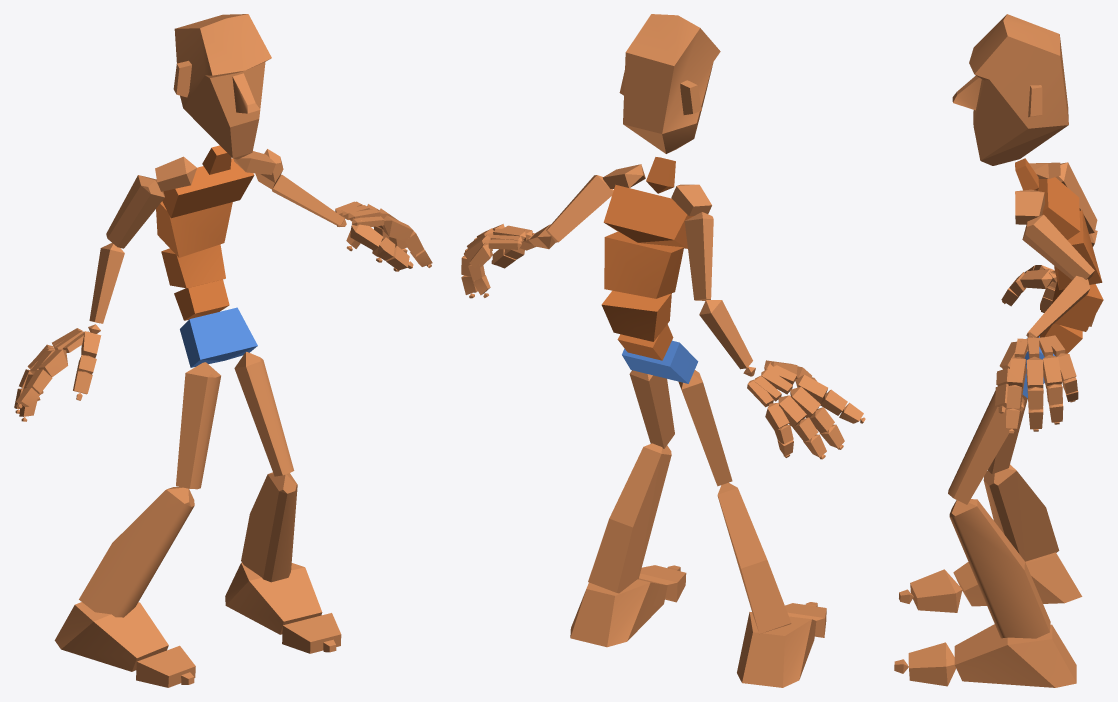
File: prueba174.obj
3 renders of one model, left to right at view 1: azimuth 30°, elevation 25°; view 2: azimuth 150°, elevation 25°; view 3: azimuth 270°, elevation 25°, orthographic. The views are drawn at different scales.
Visible parts, largest first — view 1: BOPED_Head, BOPED_R_leg, BOPED_R_foot, BOPED_L_leg, BOPED_R_foot01, BOPED_R_legup, BOPED_L_legup, Bone01, Bone04, Bone05, BOPED_R_arm_upper, Bone03 (+7 smaller); view 2: BOPED_Head, BOPED_L_leg, BOPED_R_foot01, BOPED_R_leg, BOPED_R_foot, Bone04, Bone05, Bone03, BOPED_R_legup, BOPED_L_legup, BOPED_R_arm_upper, BOPED_L_arm_upper (+8 smaller); view 3: BOPED_Head, BOPED_L_leg, BOPED_R_foot01, BOPED_R_leg, BOPED_L_legup, BOPED_R_foot, BOPED_L_arm_upper, Bone05, BOPED_R_foot_toe01, BOPED_R_foot_toe04, BOPED_L_arm_fore, Bone03 (+14 smaller).
Part boxes in pixels (x1,y1,x2,y2): BOPED_Head: (173, 14, 271, 159); BOPED_R_leg: (79, 487, 194, 617); BOPED_R_foot: (54, 602, 168, 671); BOPED_L_leg: (241, 472, 297, 582); BOPED_R_foot01: (225, 562, 322, 634); BOPED_R_legup: (176, 362, 220, 489); BOPED_L_legup: (234, 352, 294, 476); Bone01: (180, 307, 257, 367); Bone04: (156, 201, 232, 257); Bone05: (162, 158, 254, 218); BOPED_R_arm_upper: (106, 175, 164, 248); Bone03: (161, 244, 225, 288); BOPED_Head: (619, 14, 720, 153); BOPED_L_leg: (588, 443, 671, 593); BOPED_R_foot01: (570, 578, 667, 647); BOPED_R_leg: (717, 482, 791, 633); BOPED_R_foot: (737, 612, 816, 687); Bone04: (604, 231, 683, 298); Bone05: (603, 184, 693, 248); Bone03: (601, 290, 671, 341); BOPED_R_legup: (678, 370, 732, 486); BOPED_L_legup: (629, 370, 674, 448); BOPED_R_arm_upper: (684, 212, 713, 300); BOPED_L_arm_upper: (546, 175, 613, 242); BOPED_Head: (952, 14, 1068, 165); BOPED_L_leg: (949, 499, 1050, 638); BOPED_R_foot01: (954, 624, 1076, 687); BOPED_R_leg: (983, 464, 1059, 561); BOPED_L_legup: (948, 390, 1024, 504); BOPED_R_foot: (953, 552, 1082, 606); BOPED_L_arm_upper: (1022, 214, 1094, 280); Bone05: (1037, 177, 1080, 239); BOPED_R_foot_toe01: (910, 569, 962, 612); BOPED_R_foot_toe04: (908, 642, 956, 686); BOPED_L_arm_fore: (1026, 276, 1090, 337); Bone03: (1052, 281, 1103, 331).
Size of the model in its own units: 130 by 187 by 56.63.
